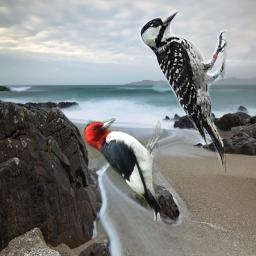Woodpecker: (138, 10, 230, 174), (84, 118, 161, 221)
